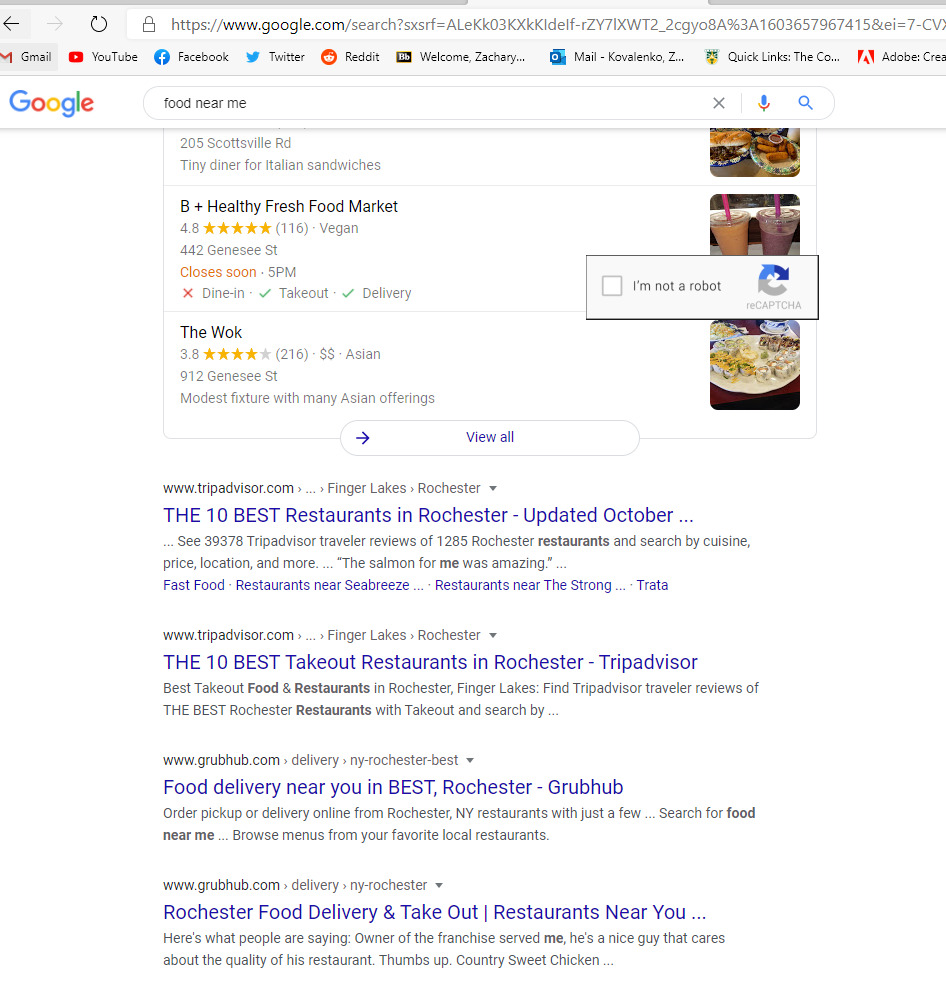captcha: (581, 246, 827, 330)
